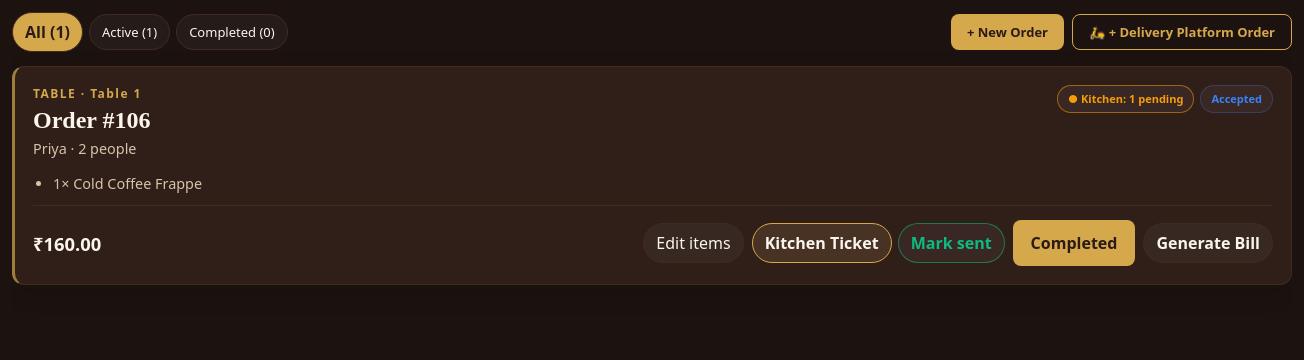
Test: OrderBoard Simplified Workflow & Clean Interface › surfaces meaningful backend error when order completion fails
The image size is (1304, 360).
Click the button "Completed" at (1074, 243), box 1013,220 -> 1135,266
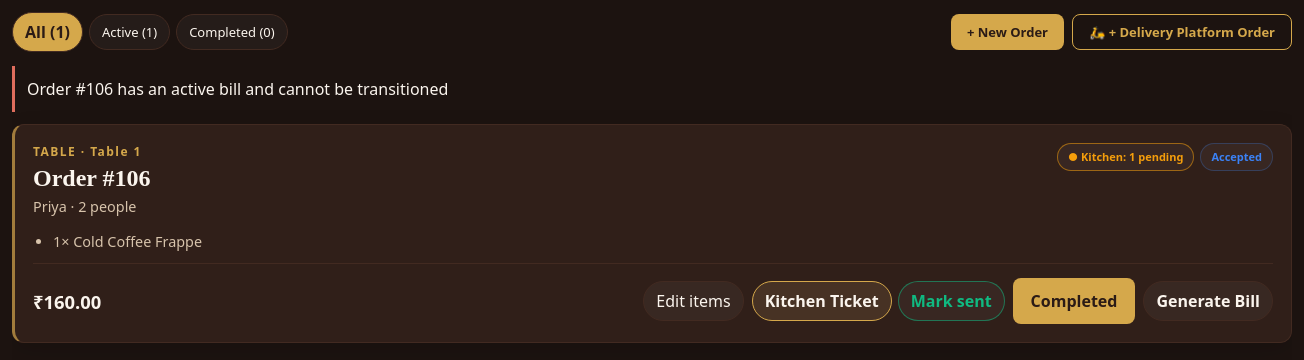
Expected: the text "Order #106 has an active bill and cannot be transitioned" is shown, 12,66 -> 1292,112
